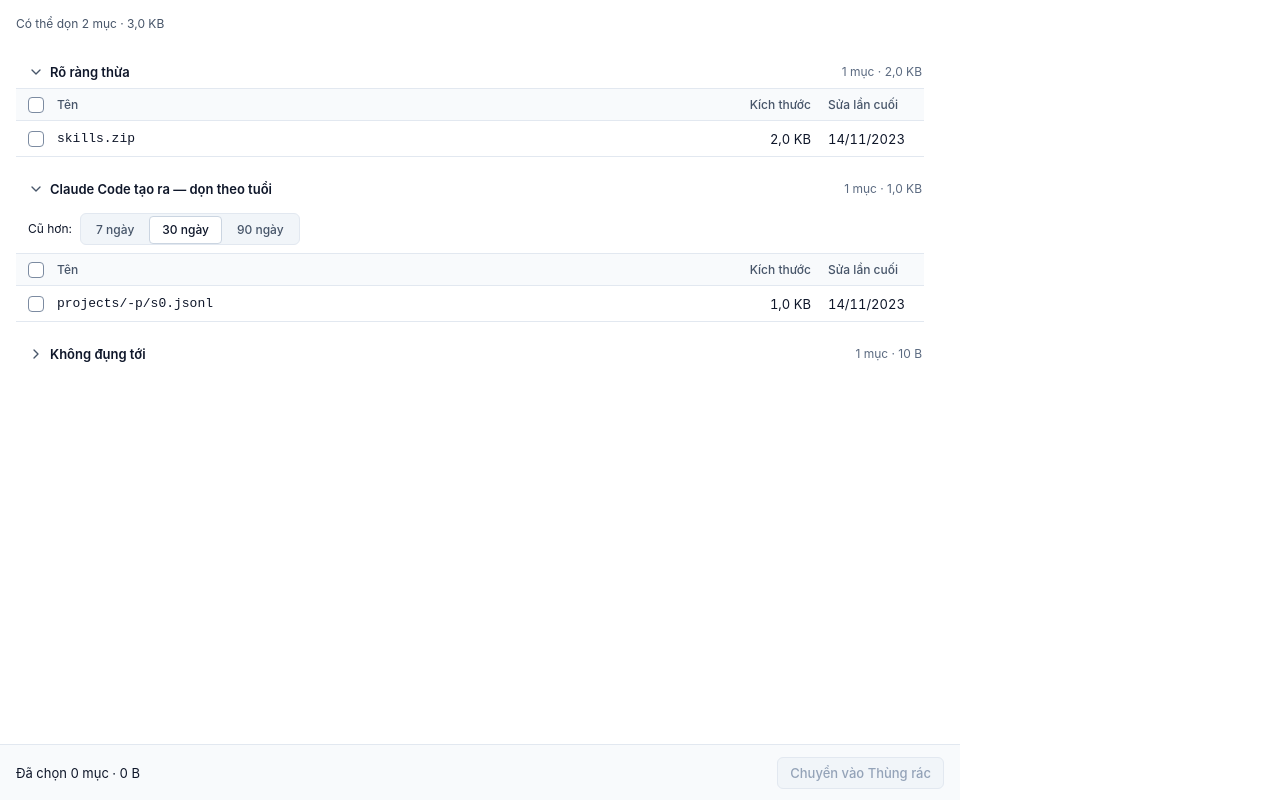
Test case: <CleanupPanel /> › UC-005 / AC-5: changing the cut-off rescans and ticks nothing
Step 1. Click the checkbox named "skills.zip" → (36, 138), box [28, 130, 44, 146]
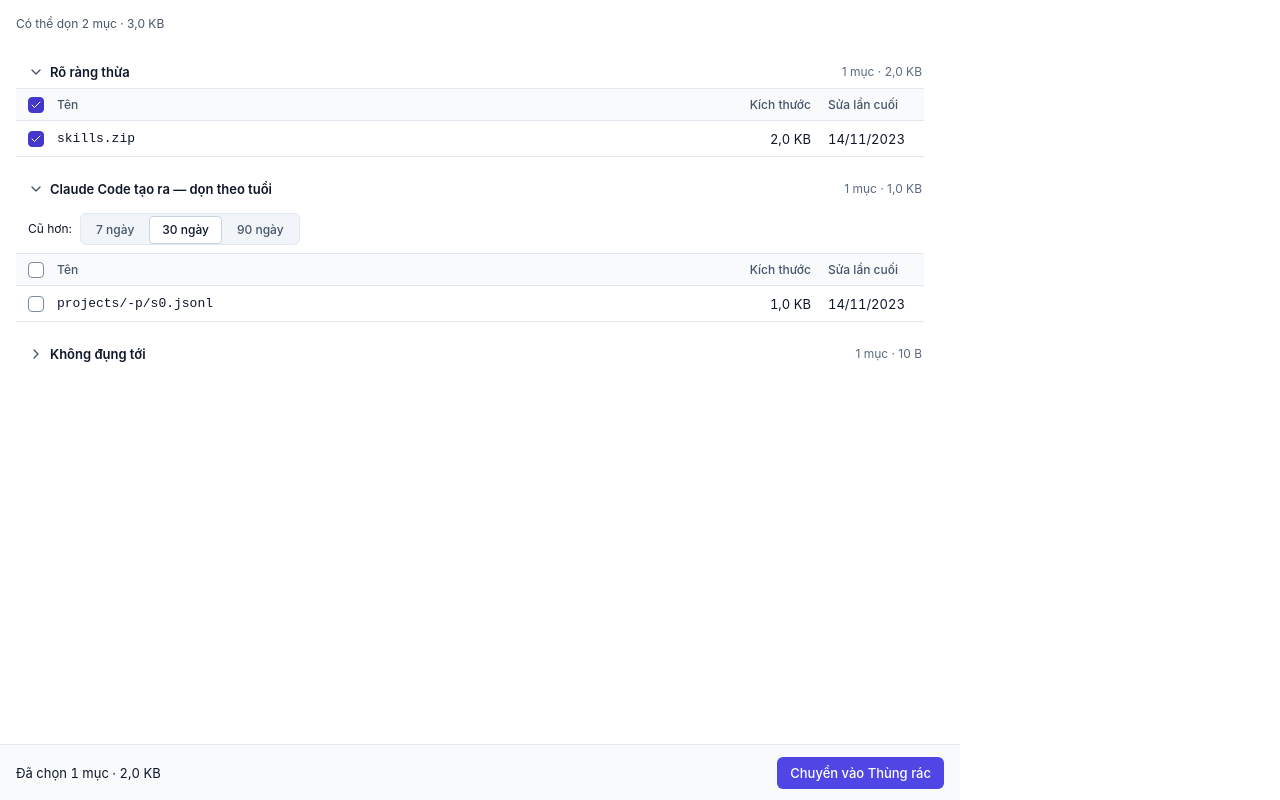
Expected: the text "Đã chọn 1 mục · 2,0 KB" is shown, [16, 762, 161, 782]
Step 2. Click the radio button labelled "7 ngày" → (115, 230), box [83, 216, 147, 244]
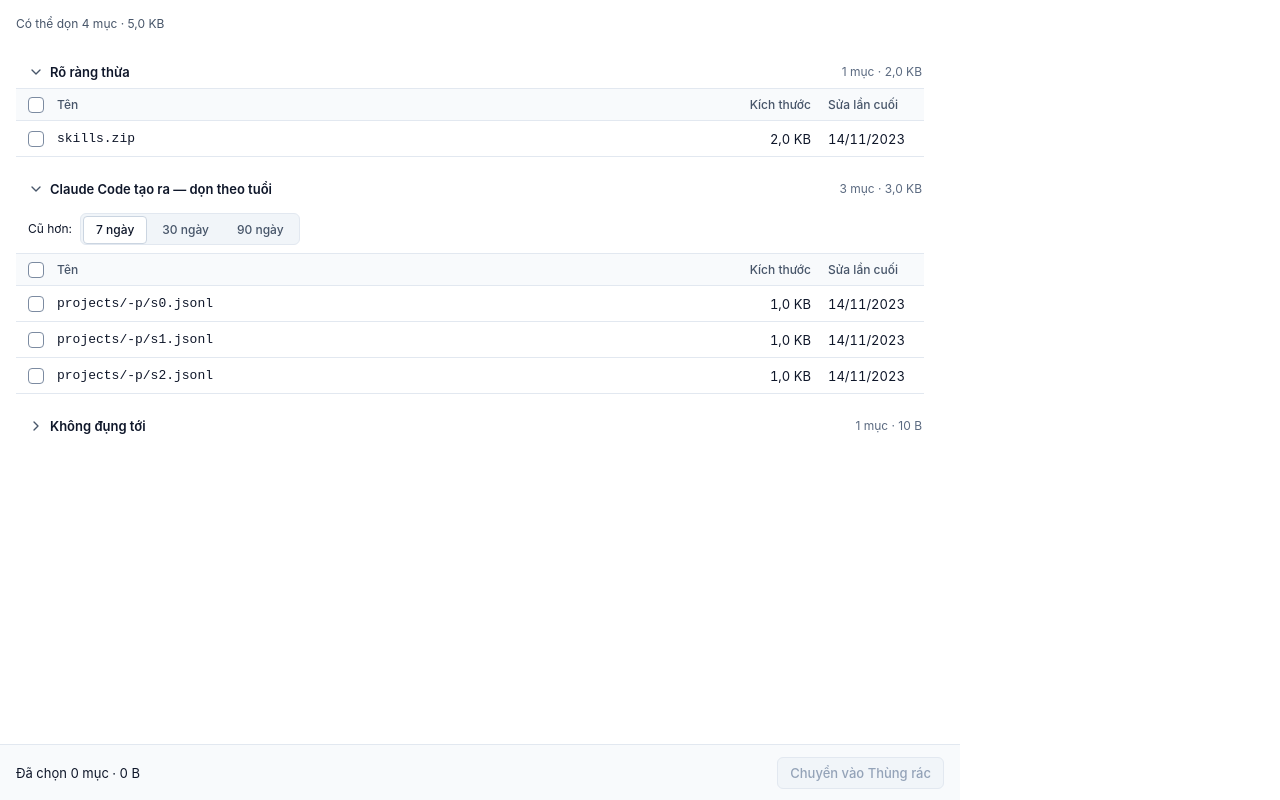
Expected: the checkbox named "projects/-p/s0.jsonl" is not checked, [28, 296, 44, 312]
Expected: the text "Đã chọn 0 mục · 0 B" is shown, [16, 762, 140, 782]
Expected: the text "projects/-p/s2.jsonl" is shown, [56, 358, 716, 394]
